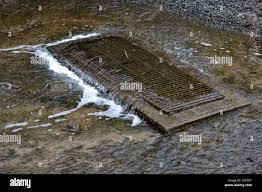drainage overflow-repair-: (16, 8, 237, 156)
